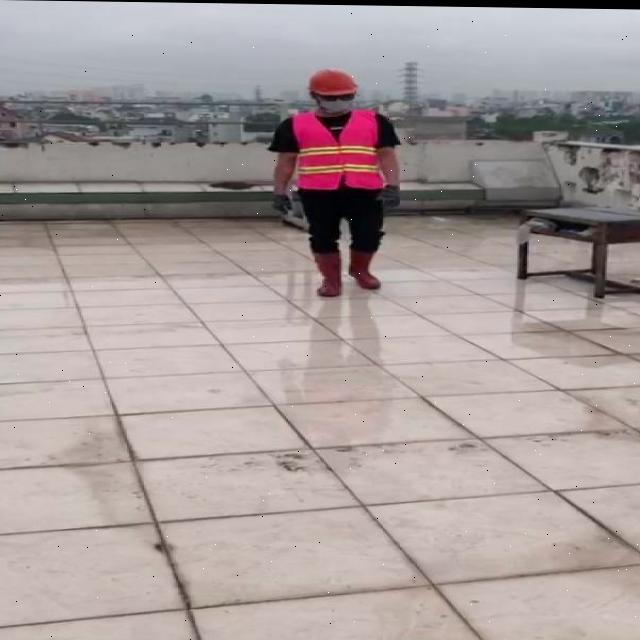Gloves: (375, 183, 400, 209), (271, 192, 291, 214)
Helmet: (308, 67, 358, 96)
Safety-Boot: (348, 244, 380, 287), (313, 248, 342, 295)
Safety-Vest: (290, 107, 384, 190)
